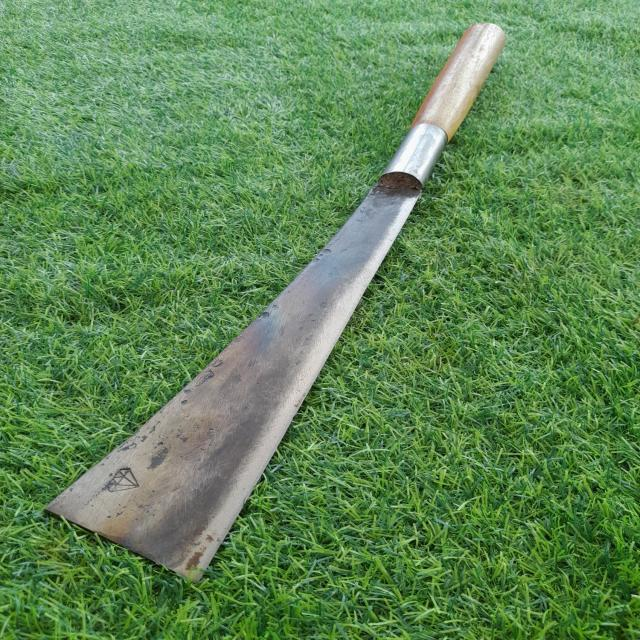eto: (17, 17, 521, 598)
